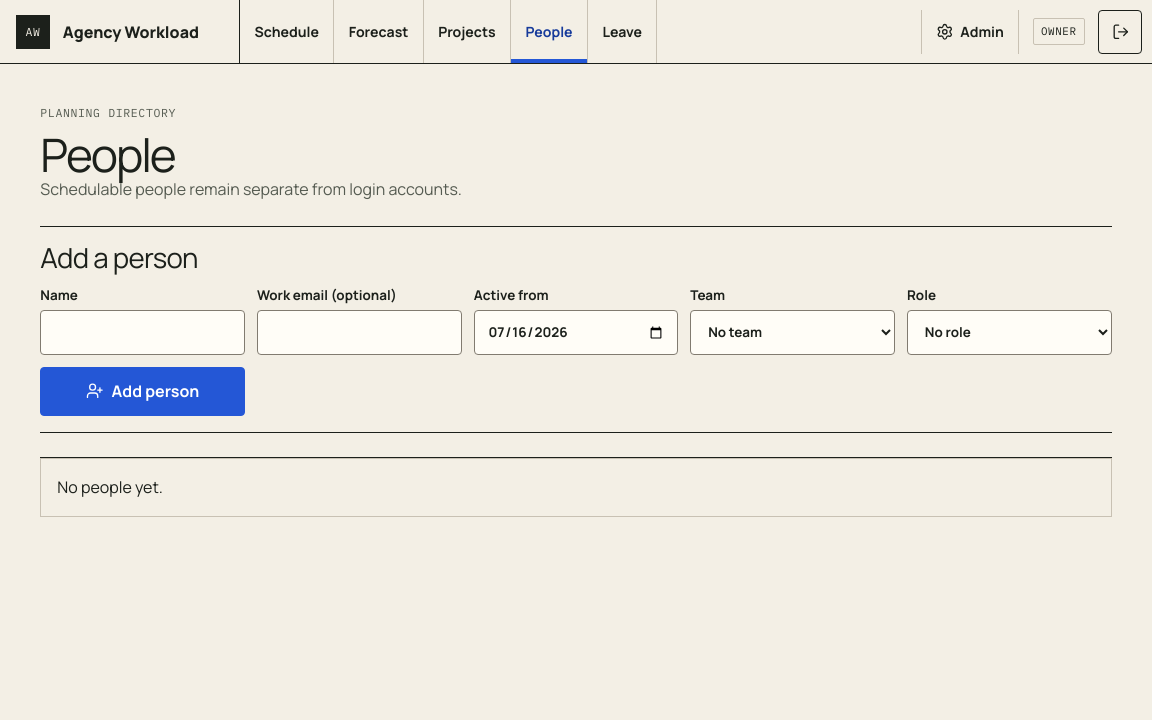
Test: Agency Workload app routes › keeps person create success distinct when the subsequent refresh fails
In the field labelled "Name": (143, 332) [40, 310, 245, 355], type "Morgan Lee"
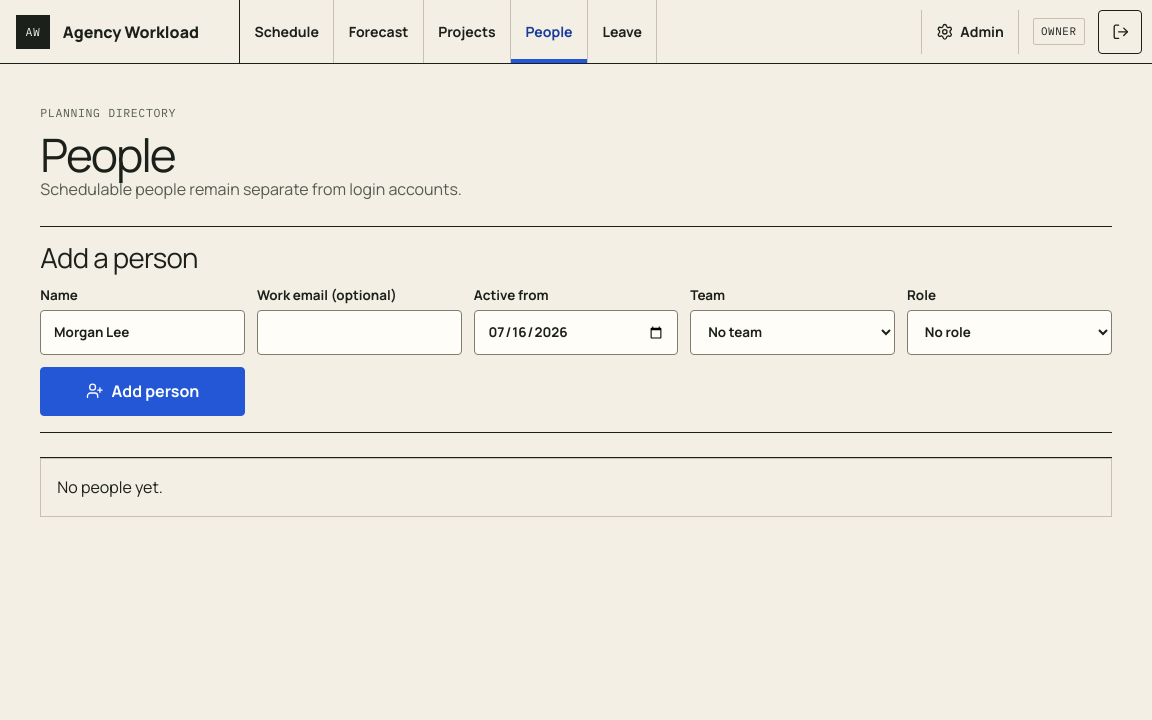
Submit the form labelled "Name", box [40, 226, 1112, 433]
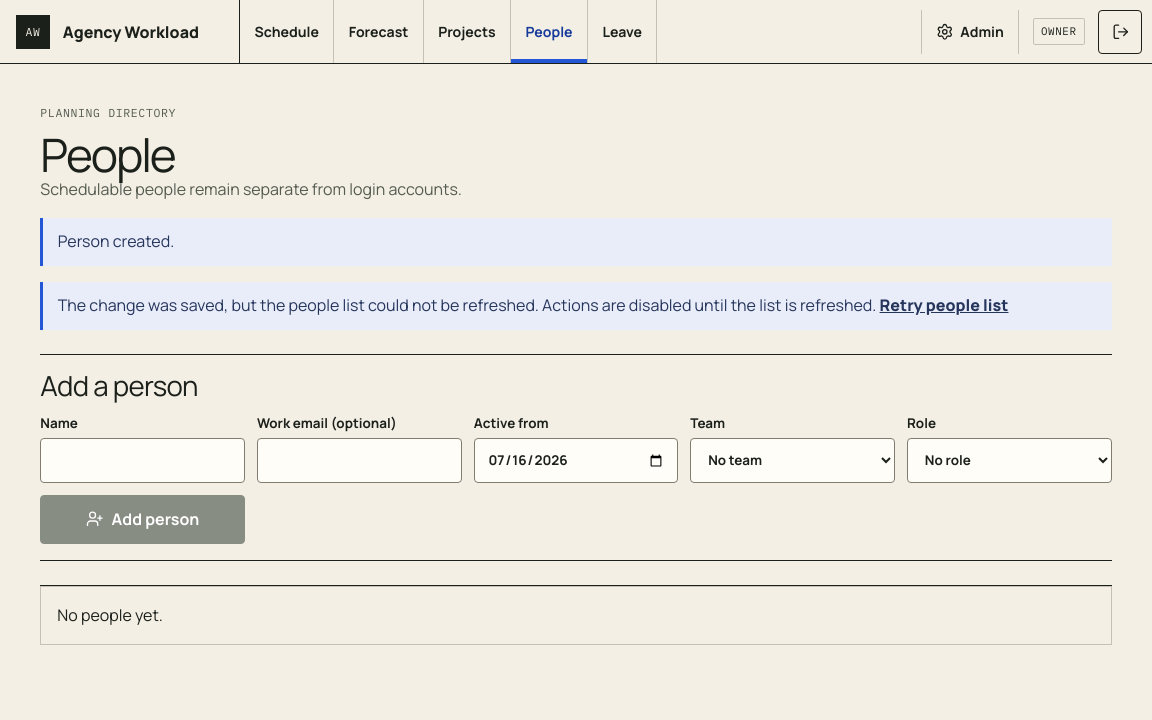
Expected: the text "Person created." is shown, [40, 218, 1112, 266]
Expected: the field labelled "Name" is empty, [40, 438, 245, 482]
Expected: the text "actions are disabled until the list is refreshed" is shown, [539, 294, 876, 316]
Click the button "Retry people list": (944, 306) [880, 293, 1008, 319]
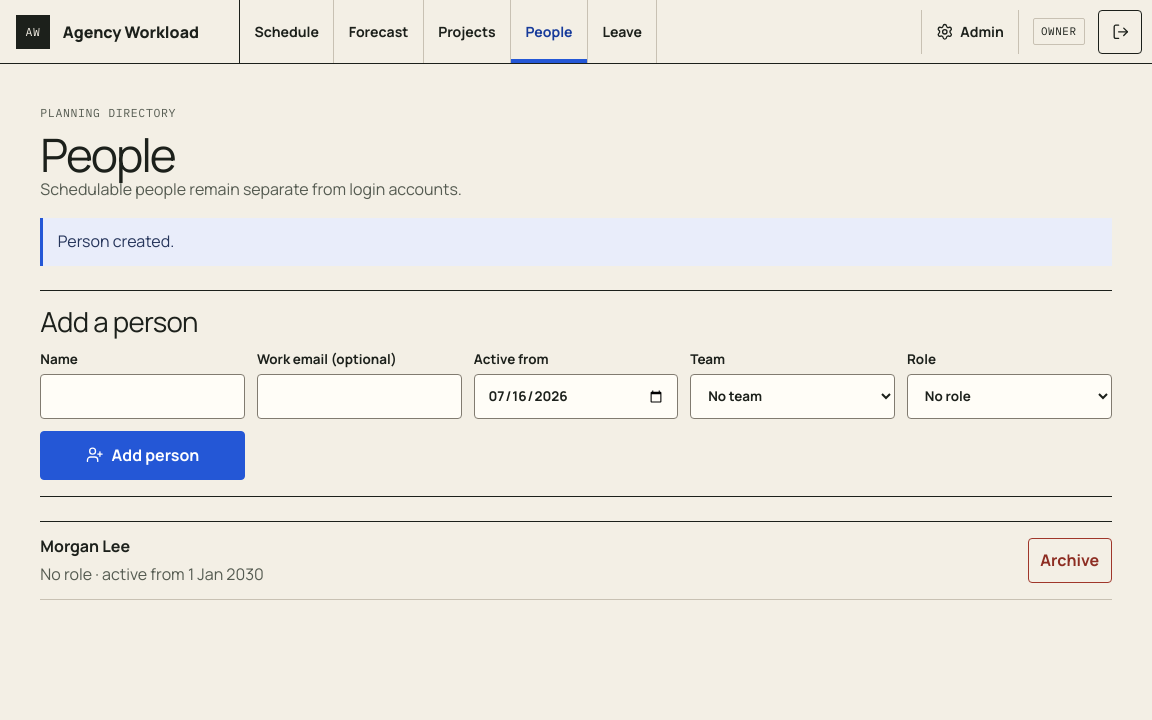
Expected: the text "Morgan Lee" is shown, [40, 535, 130, 557]
